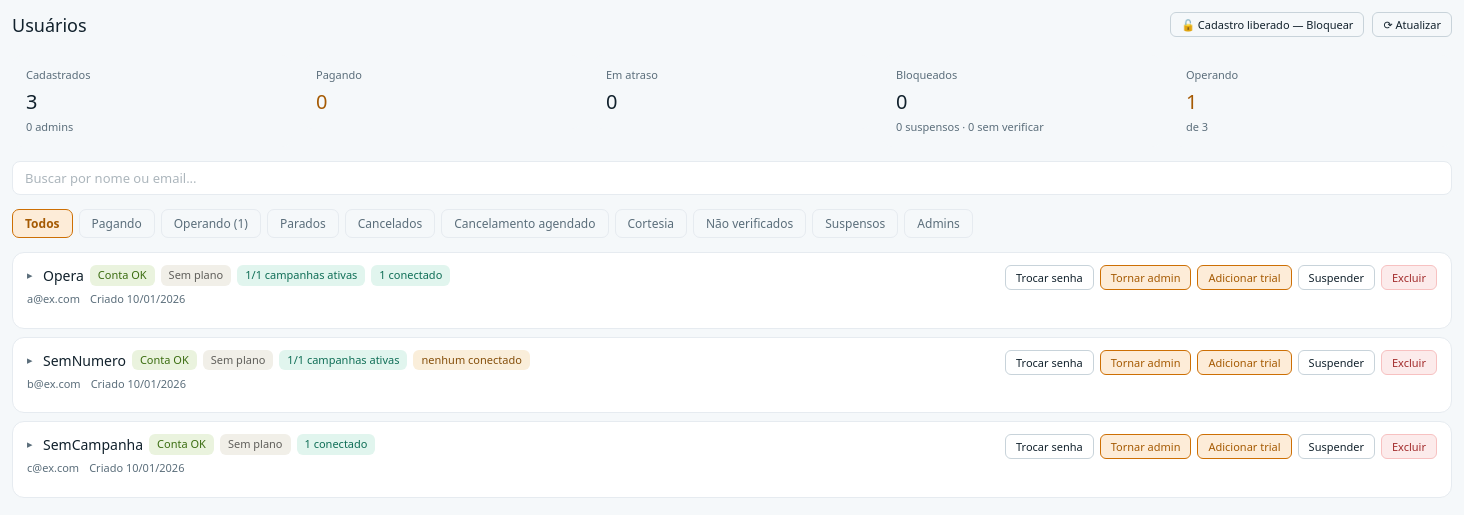
Admin › Usuários › o filtro 'Operando' deixa na lista só quem opera
Click the button "Operando (1)".
click(211, 224)  # box [161,209,261,238]
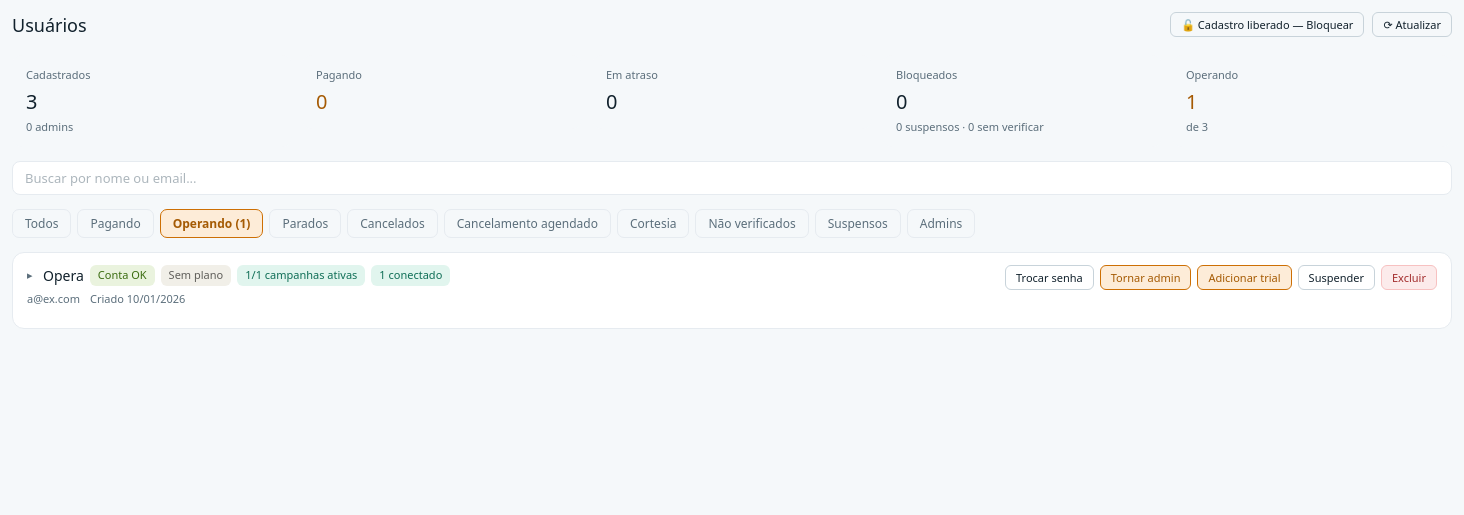
Expected: the text "Opera" is shown, [43,265,84,286]
Expected: the button "SemNumero" is gone
Expected: the button "SemCampanha" is gone
